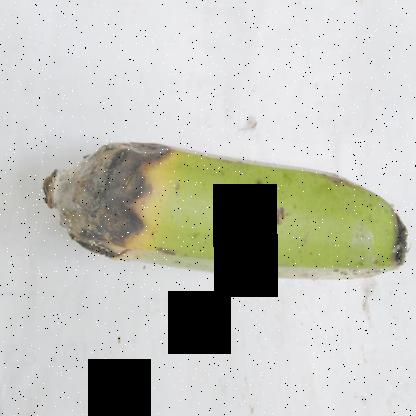rotten: (33, 96, 208, 296)
unripe: (180, 139, 405, 291)
